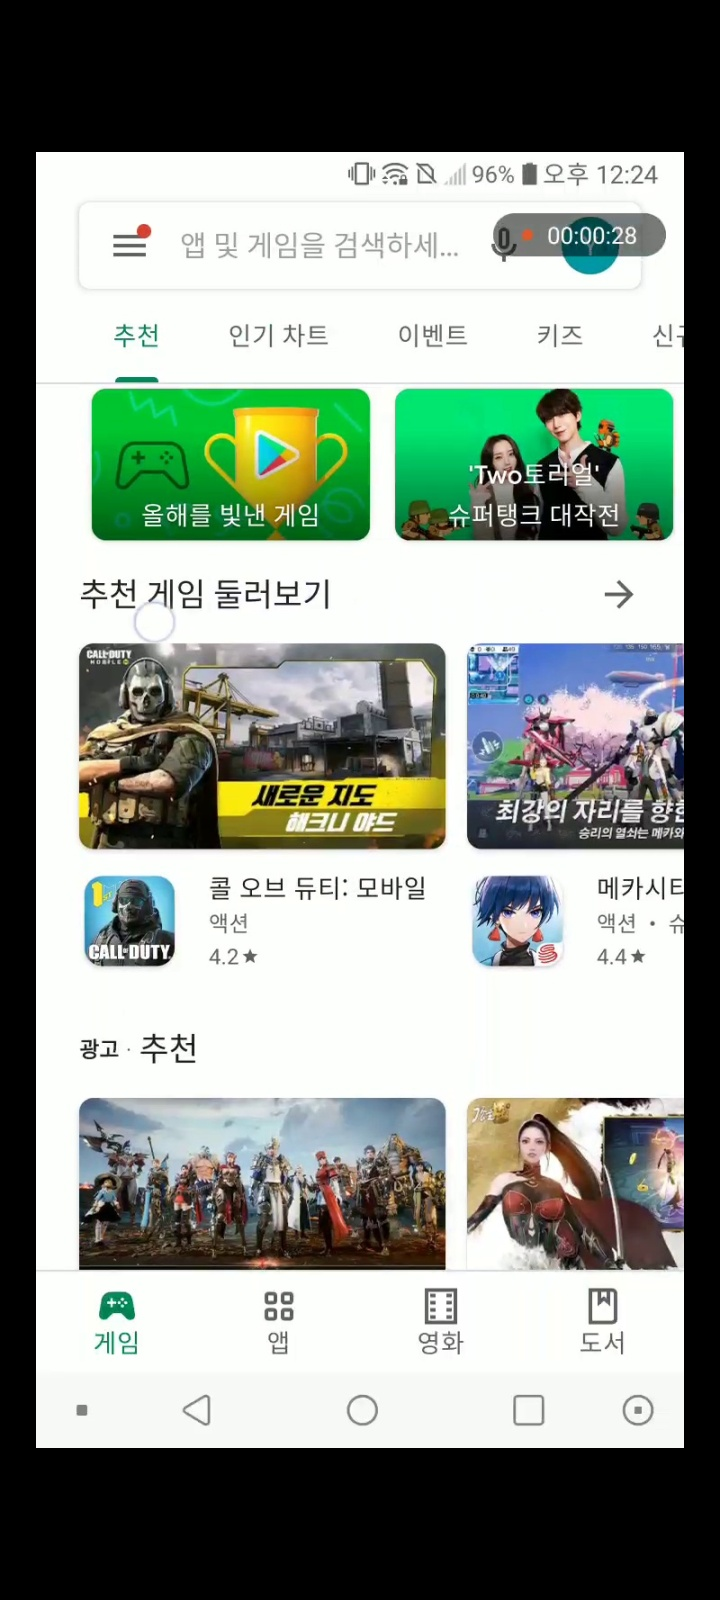Cursor: (133, 601, 178, 646)
